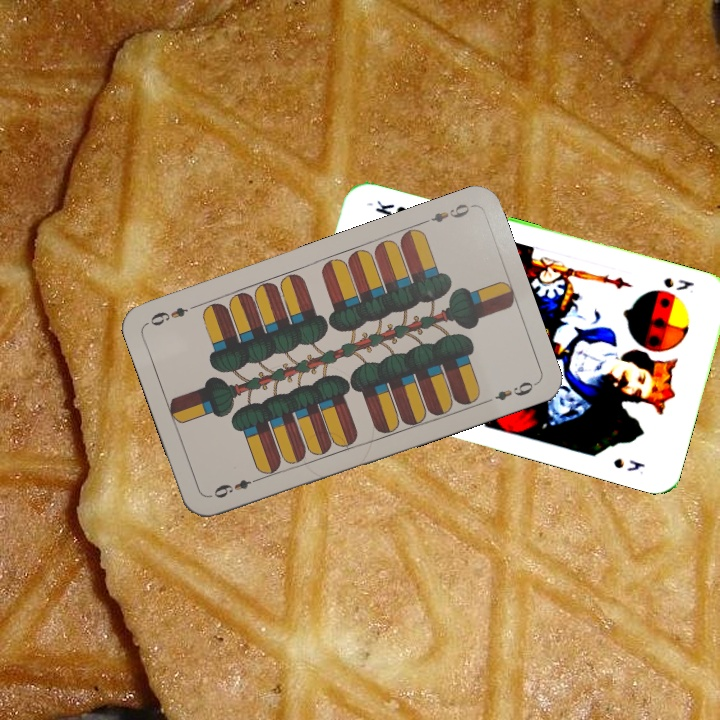E9: (417, 199, 473, 227), (209, 473, 264, 501)
SK: (659, 273, 697, 293)
